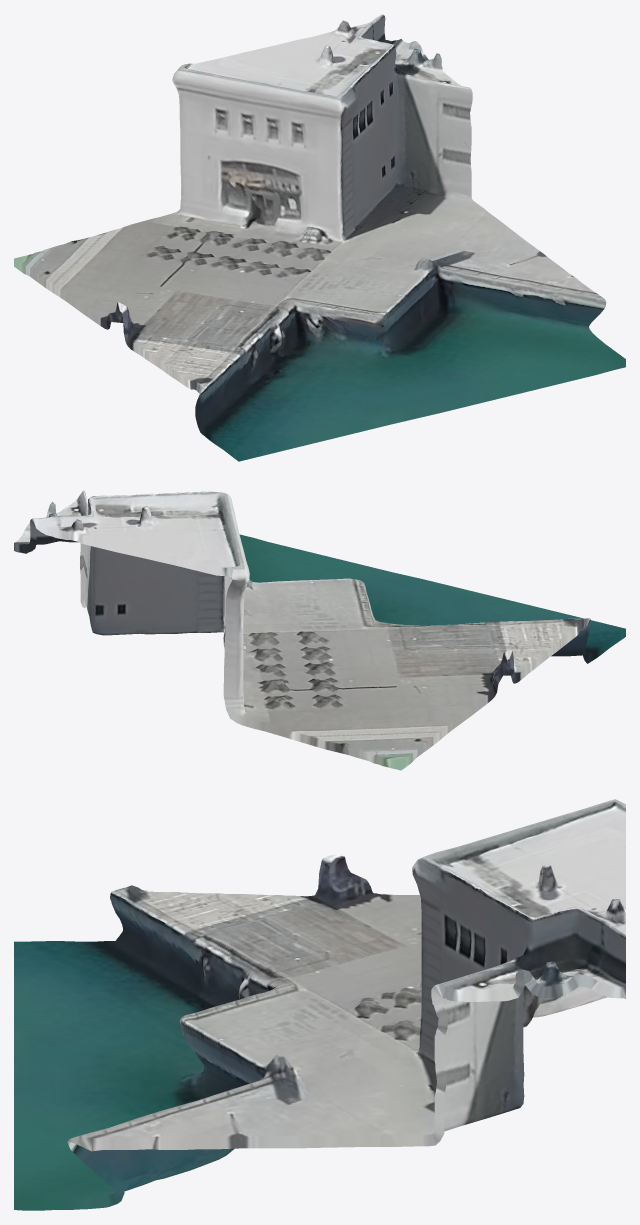
File: z20-167787-405216-h0-yup-uvflip-v3-world.glb
3 renders of one model, top to bottom at view 1: azimuth 30°, elevation 25°; view 2: azimuth 150°, elevation 25°; view 3: azimuth 270°, elevation 25°, orthographic. The views are drawn at different scales.
Size of the model in its own units: 30.16 by 15.16 by 30.32.
Materials: 1 (1 with a texture image).
